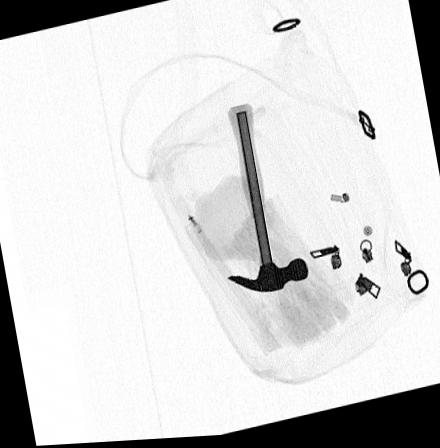Hammer: (225, 106, 307, 296)
